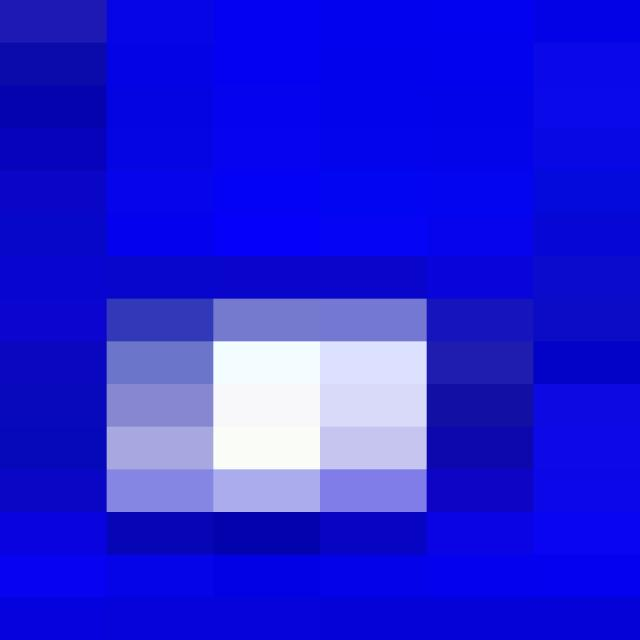.: (35, 240, 640, 640)
